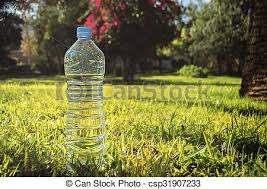plastic_bottle: (63, 24, 108, 171)
